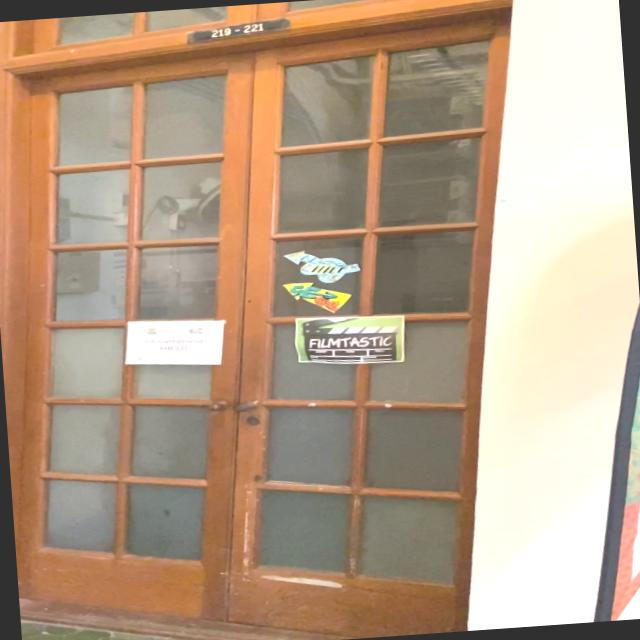room221: (186, 15, 291, 47)
